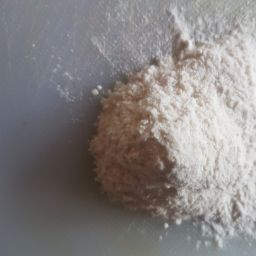Plain flour: (112, 2, 256, 250), (44, 50, 231, 226), (76, 30, 240, 189), (127, 86, 224, 179)
